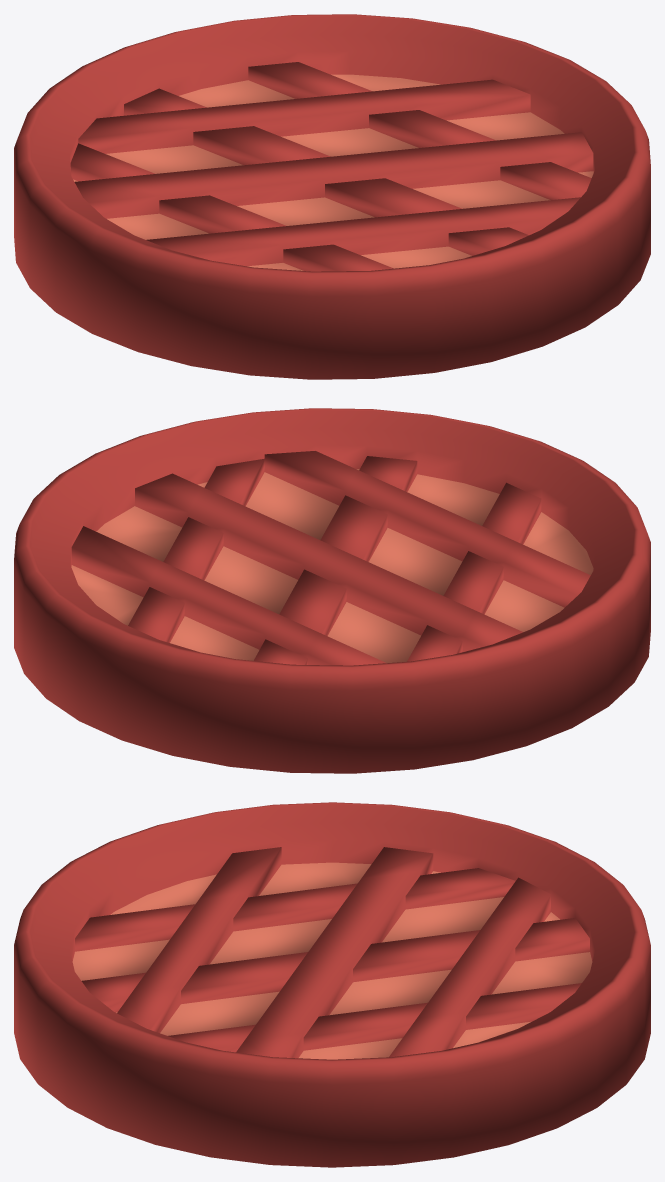
The model's file is Pie_Whole_Food.glb.
The picture shows the model from 3 angles, top to bottom: view 1: azimuth 30°, elevation 25°; view 2: azimuth 150°, elevation 25°; view 3: azimuth 270°, elevation 25°; orthographic projection.
Parts seen in each view (by area): view 1: Pie_Whole_Food; view 2: Pie_Whole_Food; view 3: Pie_Whole_Food.
Part boxes in pixels (x1,y1,x2,y2): Pie_Whole_Food: (14,14,650,379); Pie_Whole_Food: (14,408,650,773); Pie_Whole_Food: (14,802,650,1167).
Size of the model in its own units: 0.1185 by 0.0207 by 0.1185.
1 material, 1 textured.
